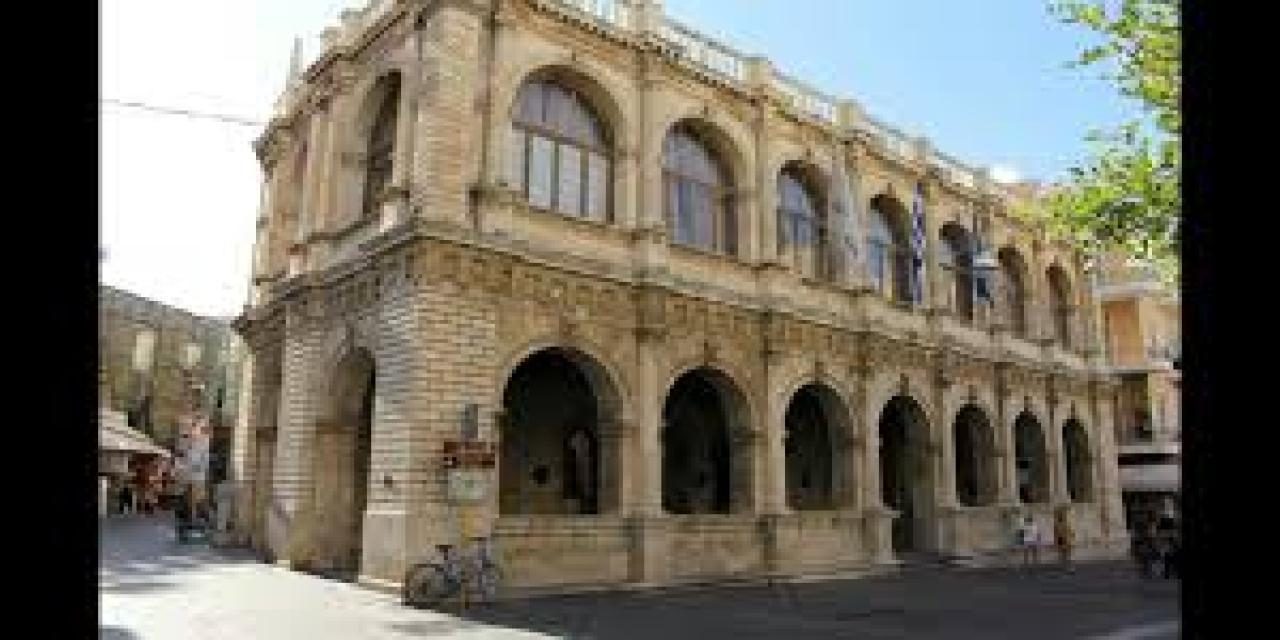Loggia: (218, 1, 1130, 595)
